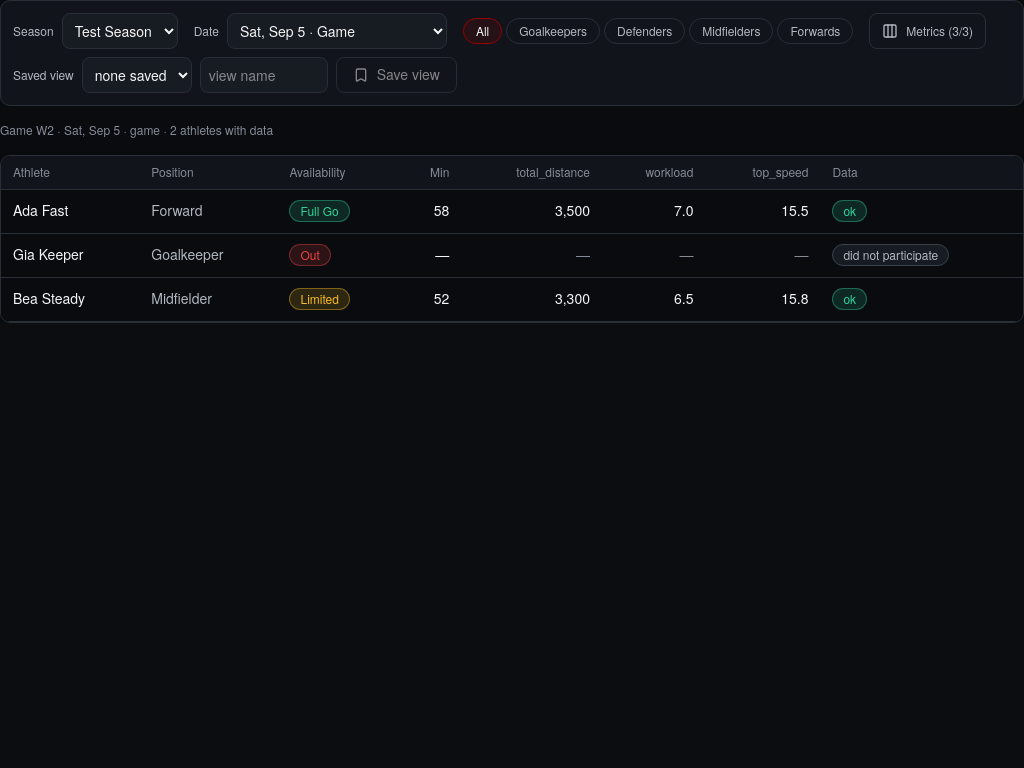
Athletes page: same-date sessions stay separate; lift session swaps the KPI catalog
Step 1. Select "Fri, Sep 4 · 2 × Practice + Lift" in the dropdown labelled "Date" → [337, 31], box [227,13,447,49]
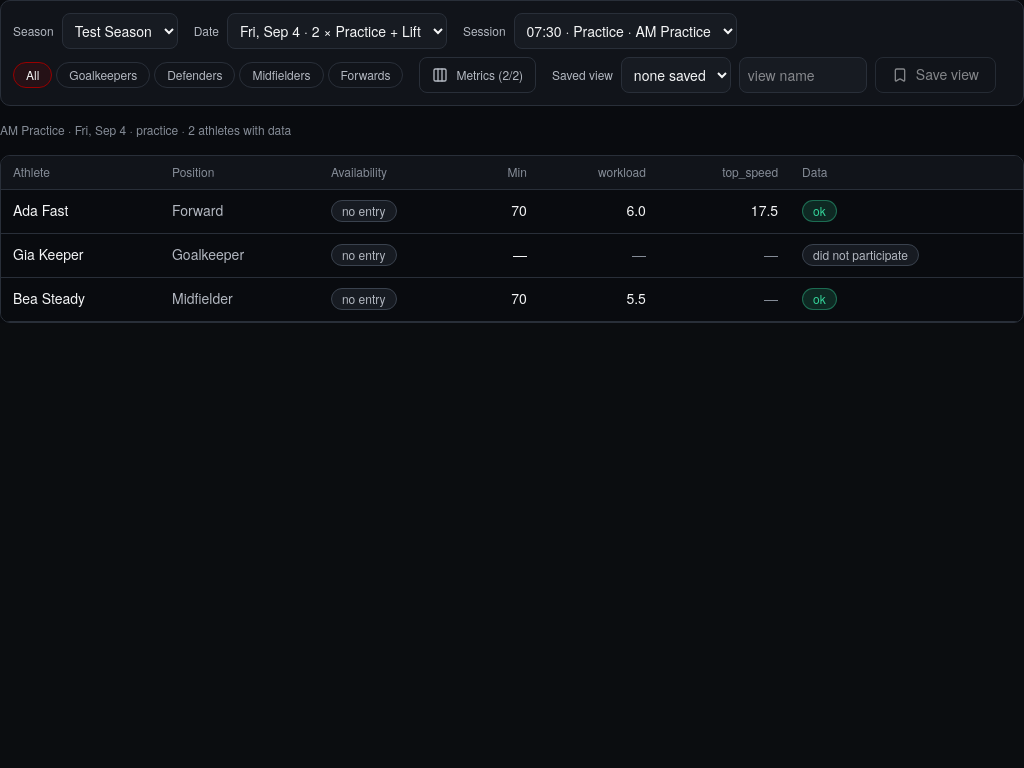
Step 2. Select "16:30 · Lift · Lift" in the dropdown labelled "Session" → [625, 31], box [514,13,737,49]
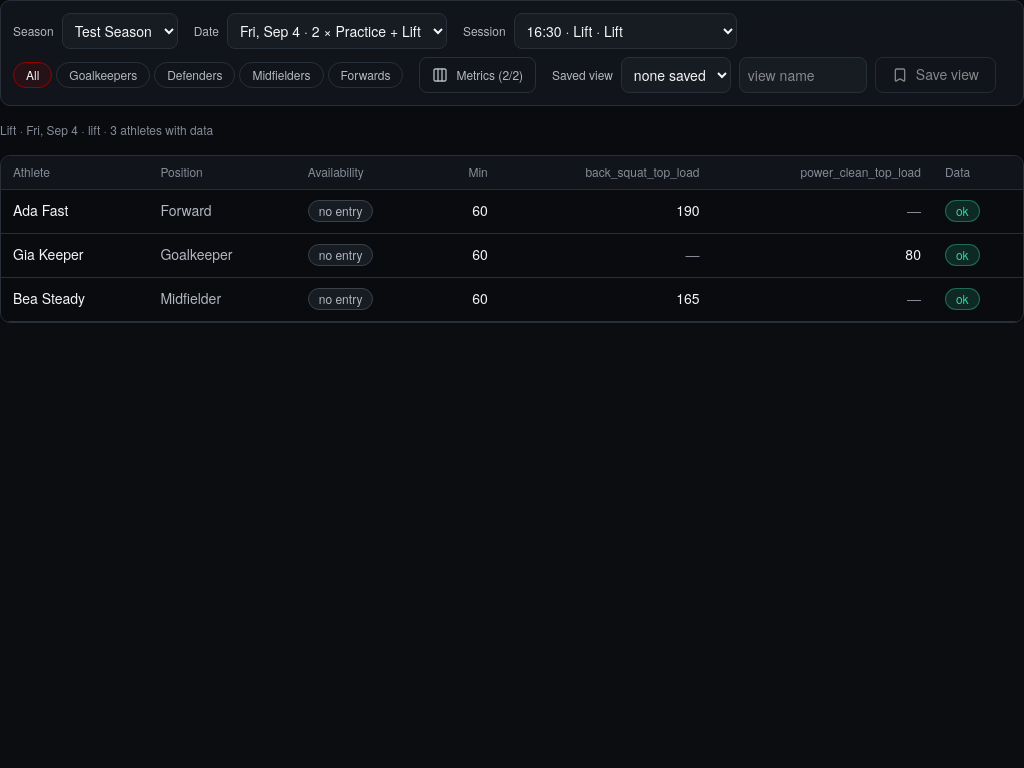
Expected: the button "back_squat_top_load" is shown, [585,164,700,181]
drawer via row click shows values and the missing-vs-zero explanation
Step 3. Click the text "Ada Fast" → [41, 210], box [13,200,68,220]
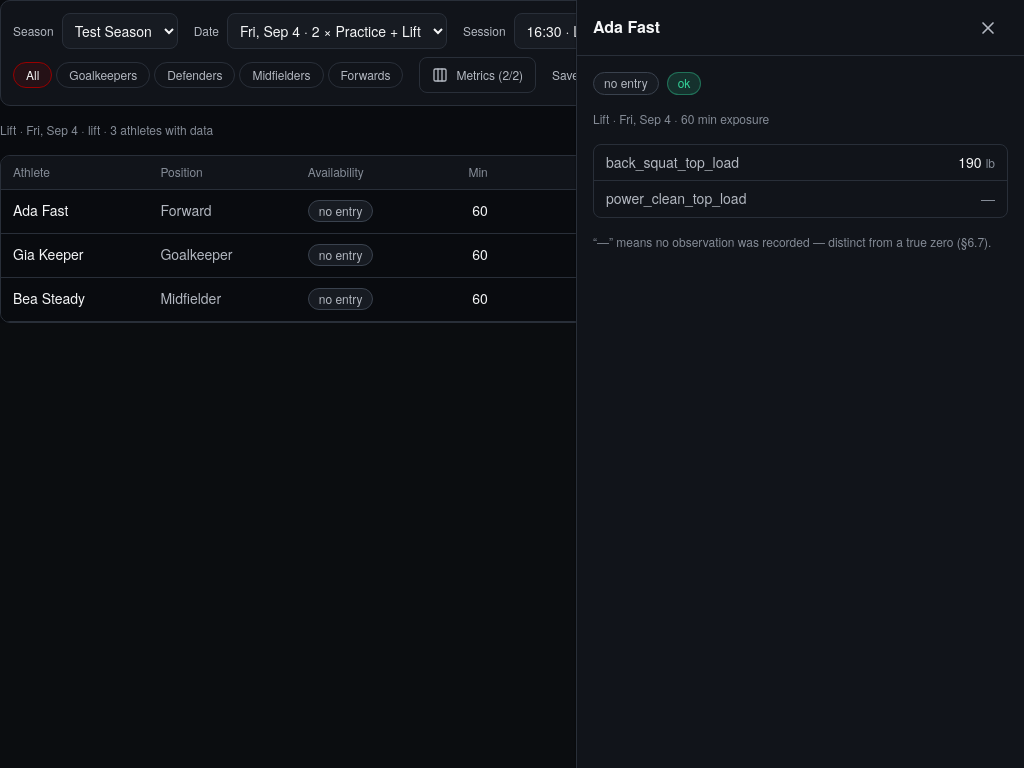
Expected: the dialog is shown, [576,0,1023,767]
Expected: the text "distinct from a true zero" is shown, [593,233,992,250]
